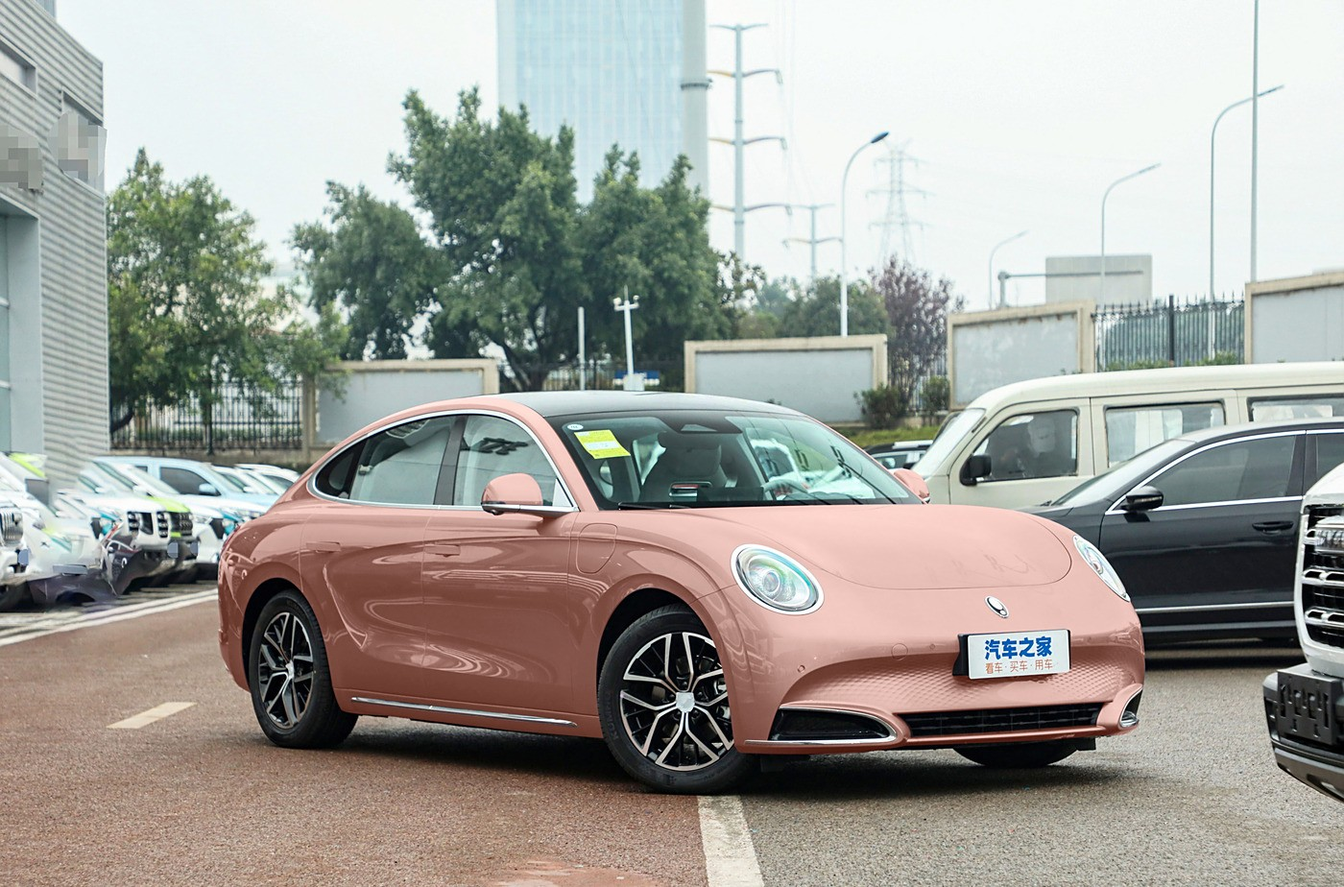ORA: (987, 596, 1008, 617)
